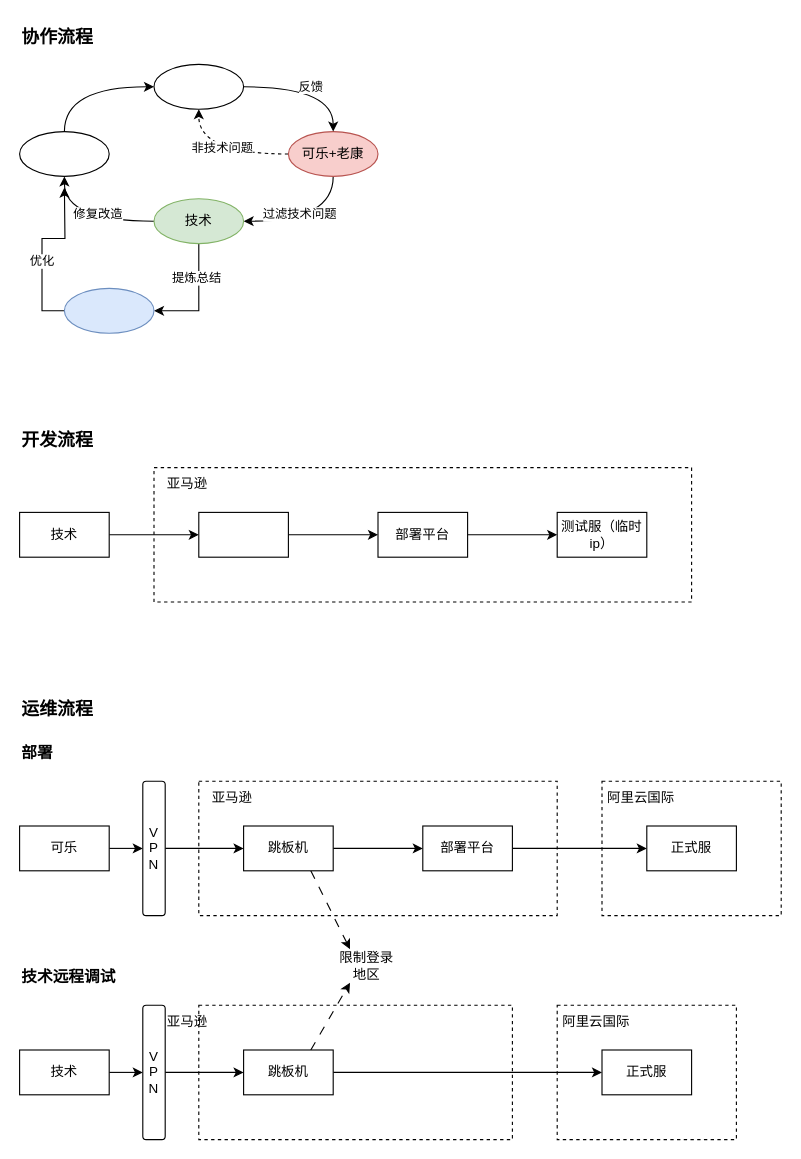
This 801x1159 diagram has some shape labels left out. The shapes that lost their labels are listed below. From the top down, each one's centre as x and y in pixels, then its label:
At point (198, 86): "客服群".
At point (63, 153): "服务".
At point (108, 310): "技术委员会".
At point (243, 534): "自建代码仓库".
